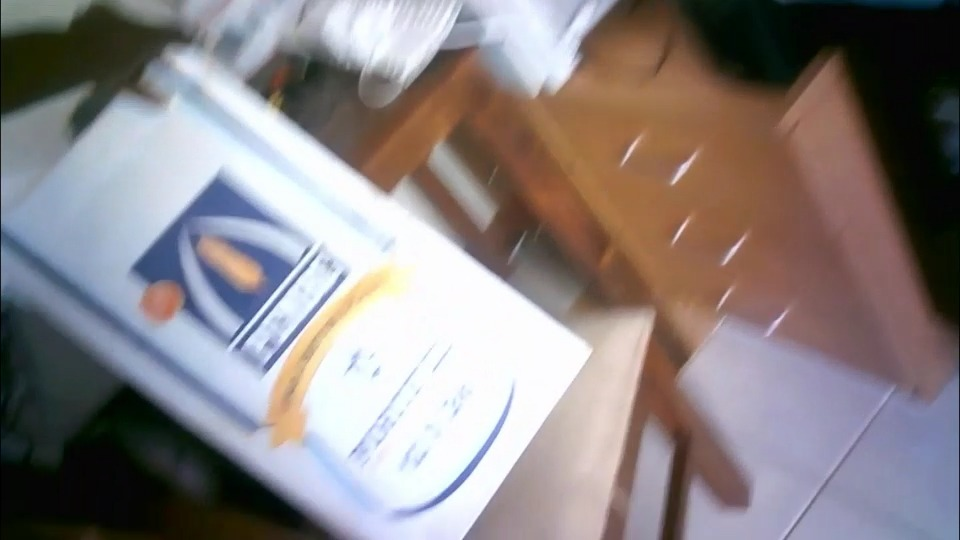wheat_flour_blue_label: (0, 42, 597, 533)
